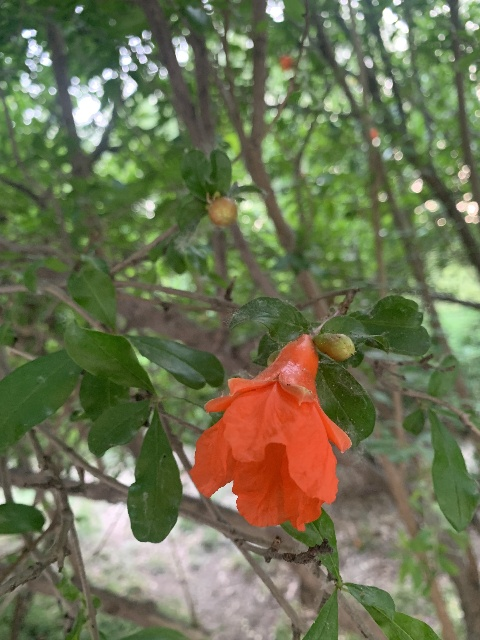bud: (312, 332, 354, 361), (208, 196, 239, 226)
flower: (190, 333, 350, 533)
